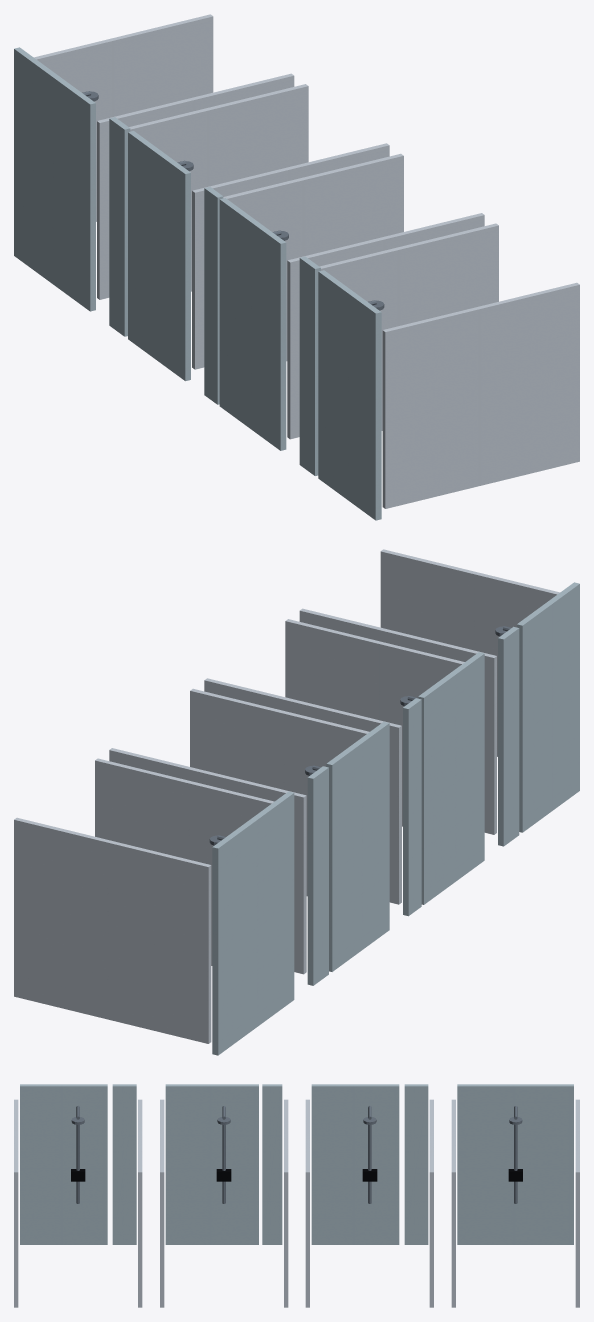
The model's file is tt_gallery_showers.glb.
3 views of the same model, one above another, from view 1: azimuth 30°, elevation 25°; view 2: azimuth 150°, elevation 25°; view 3: azimuth 270°, elevation 25° (orthographic). The views are drawn at different scales.
Visible parts, largest first — view 1: Shower_Screens, Shower_Back; view 2: Shower_Screens, Shower_Back; view 3: Shower_Back, Shower_Screens, Shower_Pipe, Shower_Control, Shower_Head.
Part boxes in pixels (x1=…): Shower_Screens: x1=34, y1=14, x2=579, y2=508; Shower_Back: x1=14, y1=47, x2=381, y2=520; Shower_Screens: x1=14, y1=549, x2=559, y2=1043; Shower_Back: x1=212, y1=582, x2=579, y2=1055; Shower_Back: x1=20, y1=1084, x2=573, y2=1244; Shower_Screens: x1=14, y1=1099, x2=579, y2=1307; Shower_Pipe: x1=76, y1=1124, x2=517, y2=1203; Shower_Control: x1=71, y1=1169, x2=522, y2=1181; Shower_Head: x1=71, y1=1117, x2=522, y2=1124.
Size of what is drawn, in the model's own units: 2.43 by 2.4 by 7.76.
4 materials, 4 textured.
